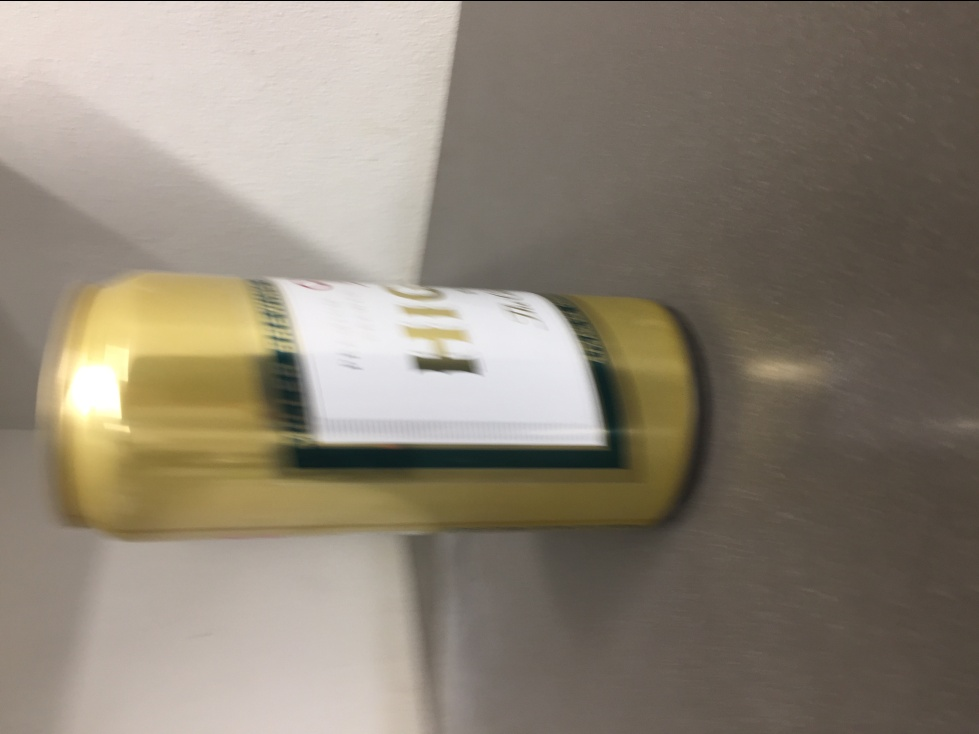miller: (42, 266, 707, 540)
